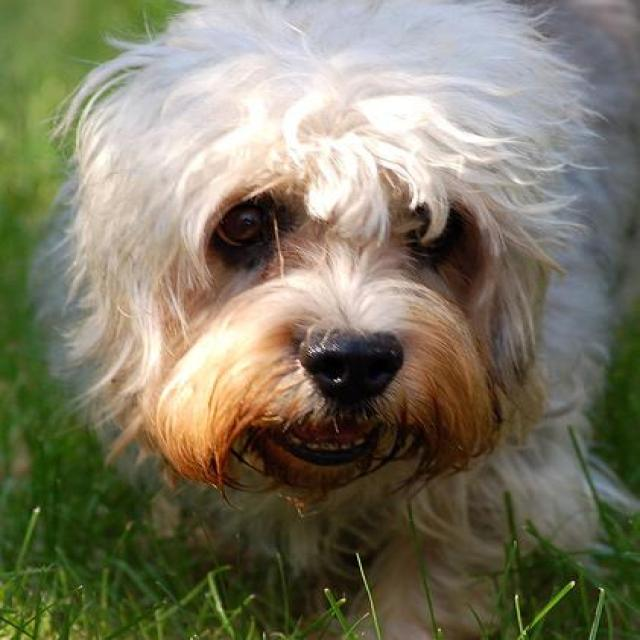dandie_dinmont: (27, 0, 636, 637)
